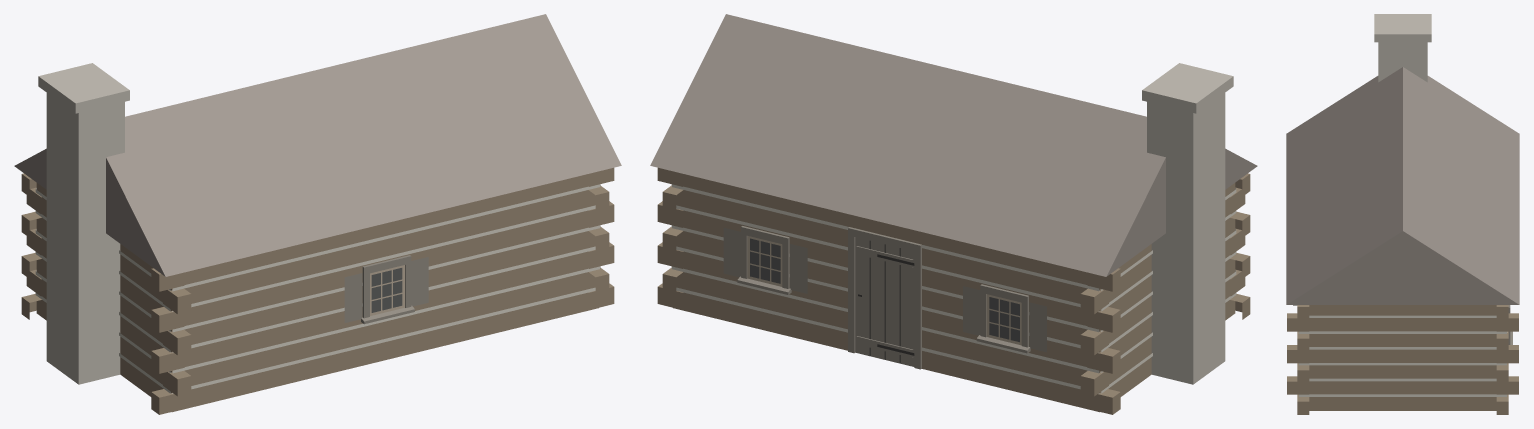
The model's file is lemai_house_1812__lemai_1812.glb.
3 renders of one model, left to right at view 1: azimuth 30°, elevation 25°; view 2: azimuth 150°, elevation 25°; view 3: azimuth 270°, elevation 25°, orthographic. The views are drawn at different scales.
Parts seen in each view (by area): view 1: lemai_house_1812__lemai_1812; view 2: lemai_house_1812__lemai_1812; view 3: lemai_house_1812__lemai_1812.
Boxes of the visible parts, x1,y1,x2,y2 form: lemai_house_1812__lemai_1812: [14, 14, 621, 414]; lemai_house_1812__lemai_1812: [650, 14, 1257, 414]; lemai_house_1812__lemai_1812: [1286, 14, 1519, 414].
Size of the model in its own units: 8.48 by 4.71 by 4.55.
